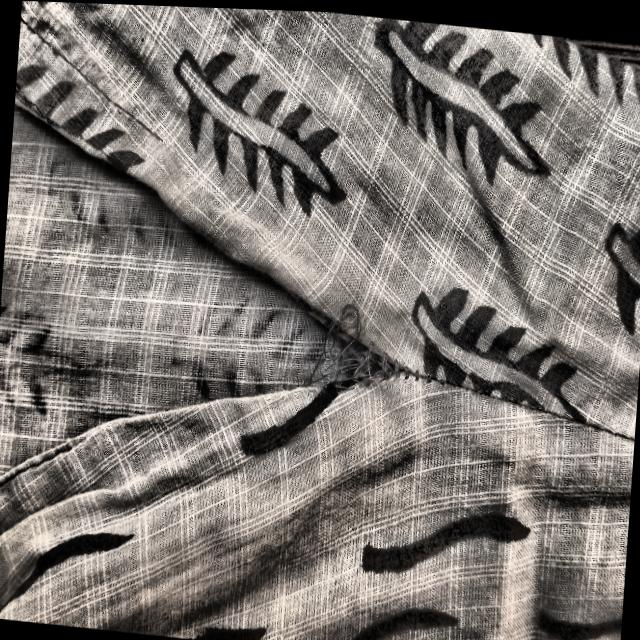Stitch: (237, 278, 448, 417)
